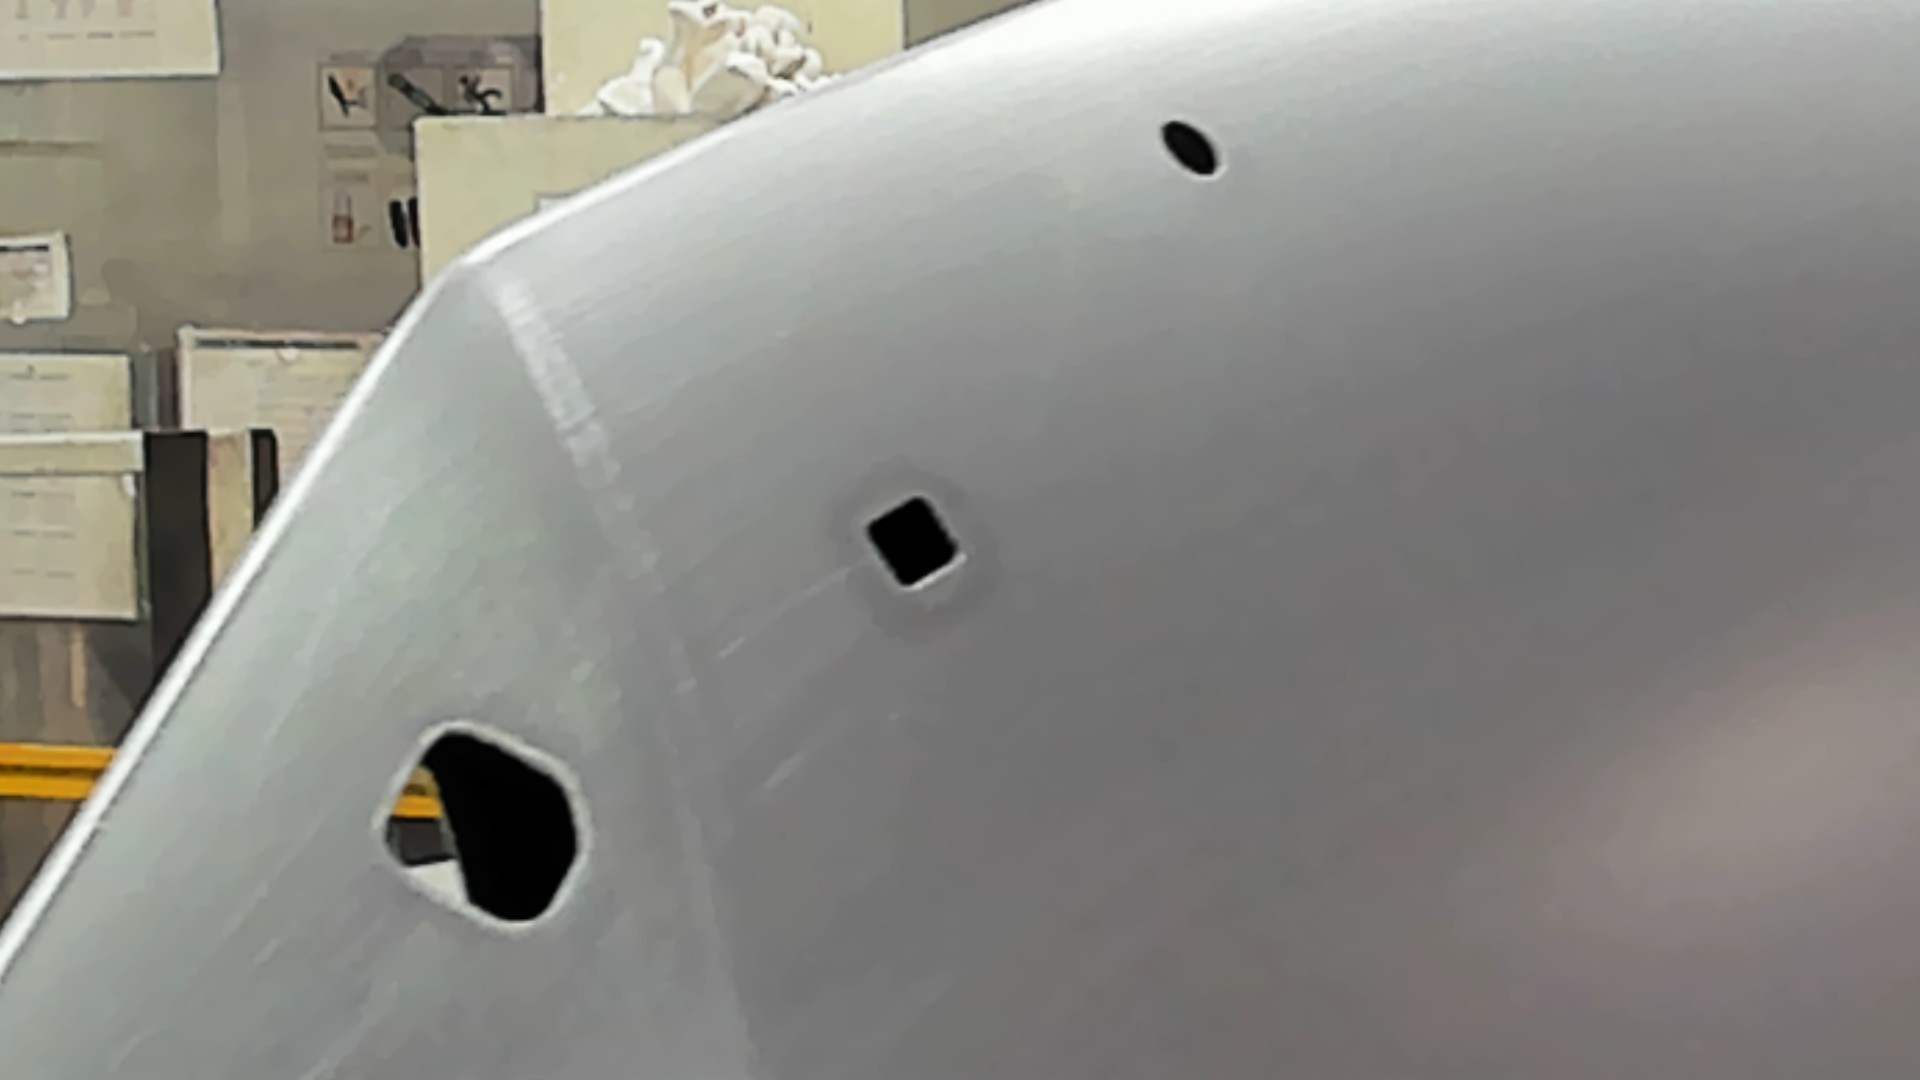capo: (971, 189, 1920, 1080)
chico: (1160, 113, 1224, 179)
grande: (371, 717, 592, 942)
mediano: (856, 488, 965, 593)
